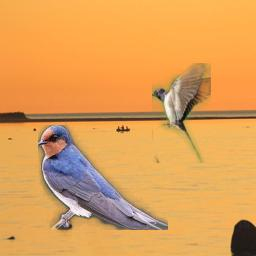Swallow: (38, 125, 168, 230), (152, 63, 211, 163)
